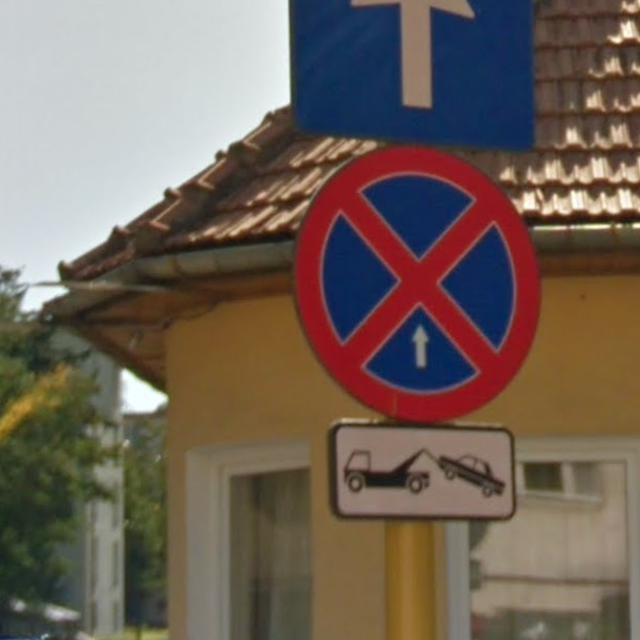forb_waiting: (292, 146, 540, 422)
